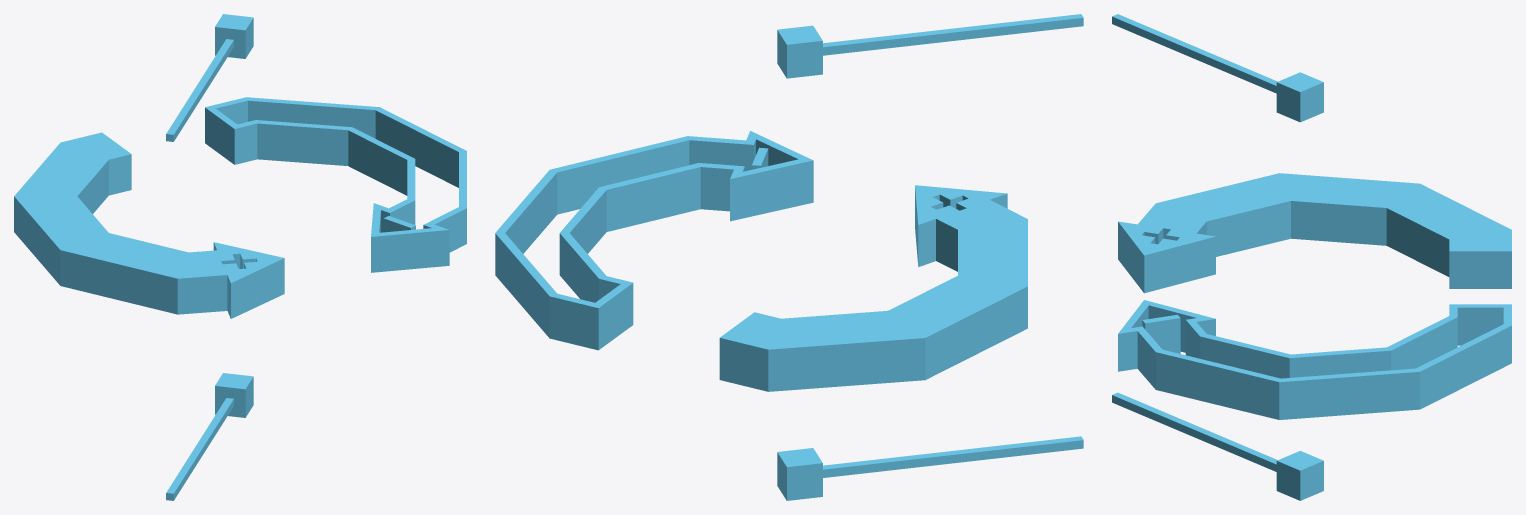
Rendered from mpe_hinge_editor.dae.
3 views of the same model, side by side, from view 1: azimuth 30°, elevation 25°; view 2: azimuth 150°, elevation 25°; view 3: azimuth 270°, elevation 25° (orthographic). The views are drawn at different scales.
Parts seen in each view (by area): view 1: robotic_edge_pivot_editor; view 2: robotic_edge_pivot_editor; view 3: robotic_edge_pivot_editor.
Boxes of the visible parts, x1,y1,x2,y2 form: robotic_edge_pivot_editor: [14, 14, 466, 500]; robotic_edge_pivot_editor: [495, 14, 1083, 500]; robotic_edge_pivot_editor: [1112, 14, 1511, 500].
Size of the model in its own units: 0.2962 by 0.2394 by 0.27.
